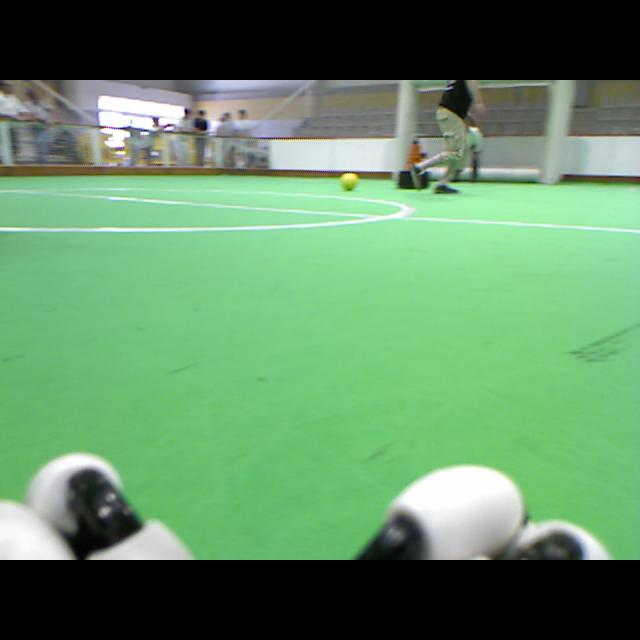ball: (398, 136, 427, 189), (343, 173, 358, 191)
